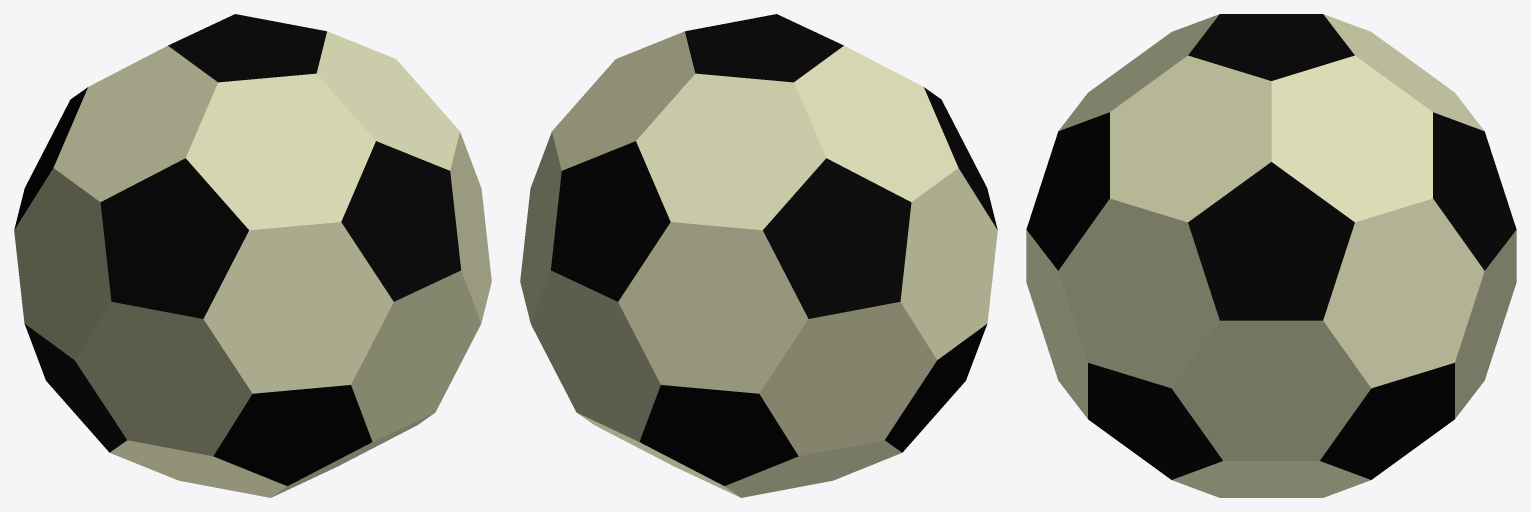
The model's file is Football.fbx.
3 views of the same model, side by side, from view 1: azimuth 30°, elevation 25°; view 2: azimuth 150°, elevation 25°; view 3: azimuth 270°, elevation 25° (orthographic). The views are drawn at different scales.
Visible parts, largest first — view 1: Icosphere; view 2: Icosphere; view 3: Icosphere.
Part boxes in pixels (box(x1,y1,x2,y2)): Icosphere: box(14, 14, 491, 497); Icosphere: box(520, 14, 997, 497); Icosphere: box(1026, 14, 1516, 497).
Size of the model in its own units: 167 by 162 by 170.
